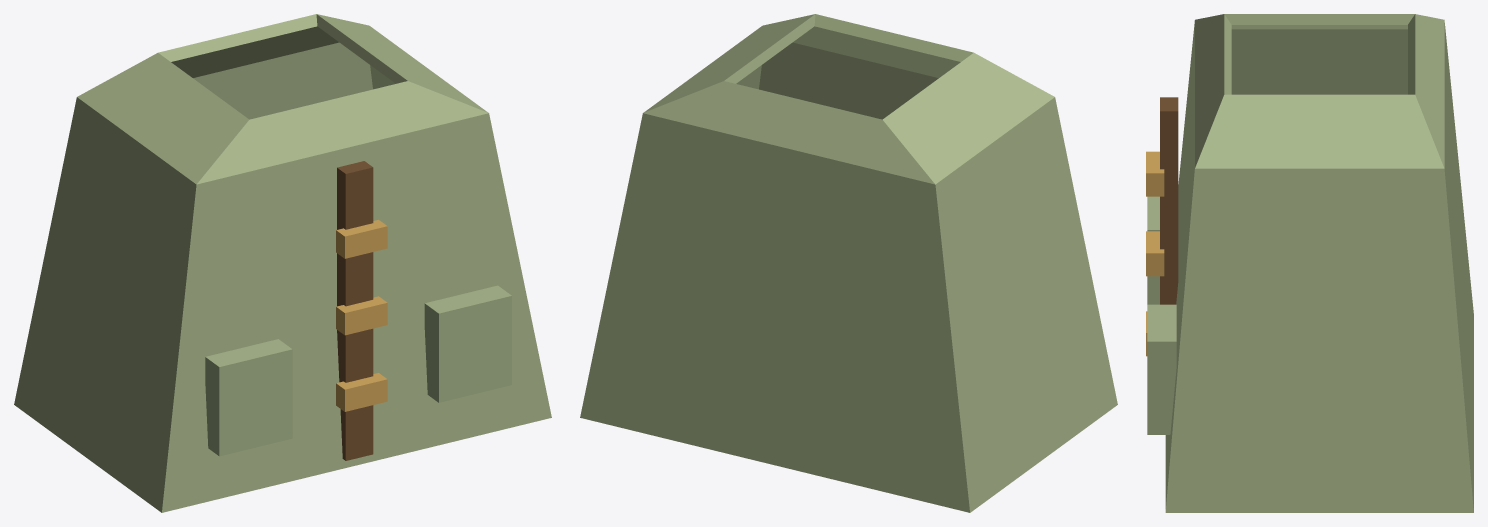
Rendered from WardenCoat.glb.
3 views of the same model, side by side, from view 1: azimuth 30°, elevation 25°; view 2: azimuth 150°, elevation 25°; view 3: azimuth 270°, elevation 25° (orthographic). The views are drawn at different scales.
Visible parts, largest first — view 1: Protective coat, Utility pocket, Utility pocket.001, Front placket, Fastener.002, Fastener, Fastener.001; view 2: Protective coat; view 3: Protective coat, Utility pocket.001, Front placket, Utility pocket, Fastener.002, Fastener.001.
Boxes of the visible parts, <box> form: Protective coat: <box>14,14,551,512</box>; Utility pocket: <box>205,339,292,456</box>; Utility pocket.001: <box>424,285,511,402</box>; Front placket: <box>337,161,373,460</box>; Fastener.002: <box>336,220,387,258</box>; Fastener: <box>336,373,387,411</box>; Fastener.001: <box>336,296,387,335</box>; Protective coat: <box>580,14,1117,512</box>; Protective coat: <box>1165,14,1473,512</box>; Utility pocket.001: <box>1147,304,1176,434</box>; Front placket: <box>1160,97,1178,304</box>; Utility pocket: <box>1147,196,1159,304</box>; Fastener.002: <box>1146,151,1164,196</box>; Fastener.001: <box>1146,231,1164,276</box>.
Size of the model in its own units: 0.64 by 0.5432 by 0.4465.
